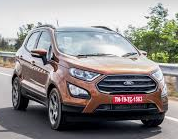car: (10, 25, 170, 131)
